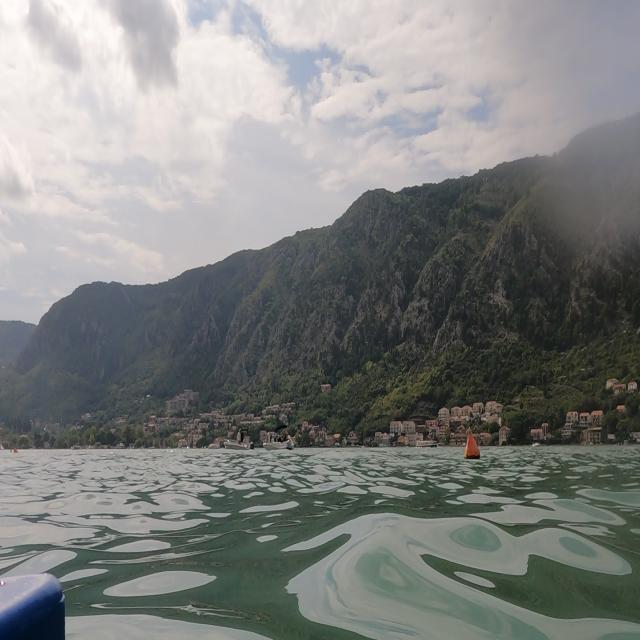buoy: (461, 424, 484, 467)
